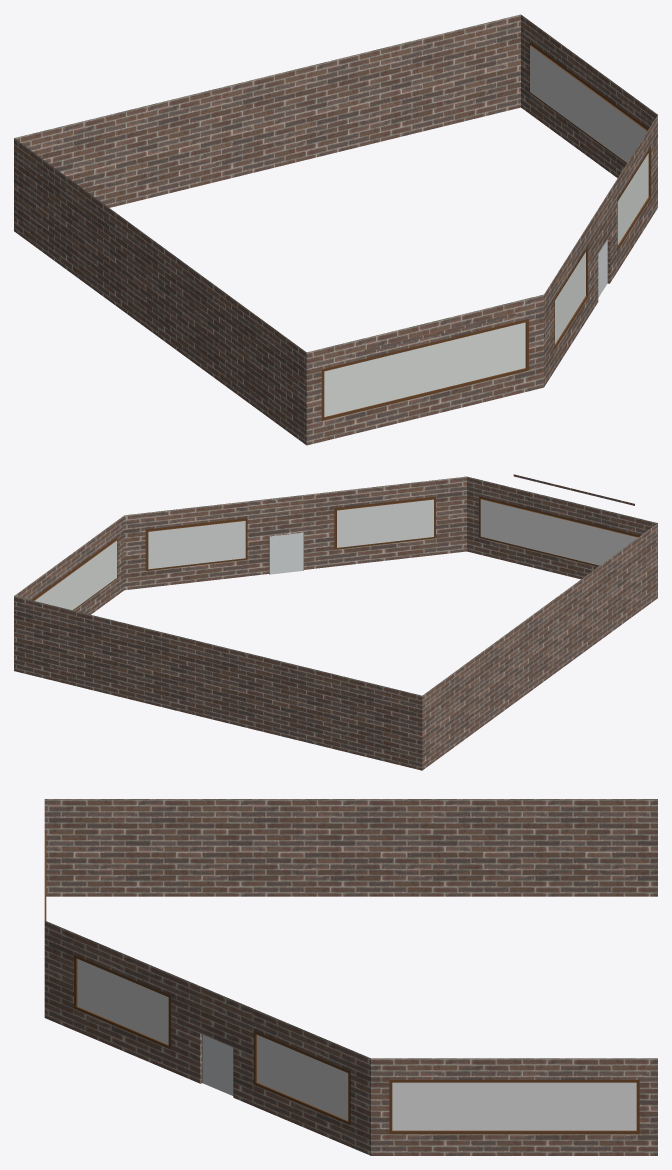
File: Planta Baja.fbx
The picture shows the model from 3 angles, top to bottom: view 1: azimuth 30°, elevation 25°; view 2: azimuth 150°, elevation 25°; view 3: azimuth 270°, elevation 25°; orthographic projection. The views are drawn at different scales.
Parts seen in each view (by area): view 1: building_017.001; view 2: building_017.001; view 3: building_017.001.
Boxes of the visible parts, x1=… form: building_017.001: x1=14, y1=14, x2=657, y2=445; building_017.001: x1=14, y1=474, x2=657, y2=770; building_017.001: x1=44, y1=799, x2=657, y2=1155.
Size of the model in its own units: 2000 by 361 by 2100.
2 materials, 2 textured.
